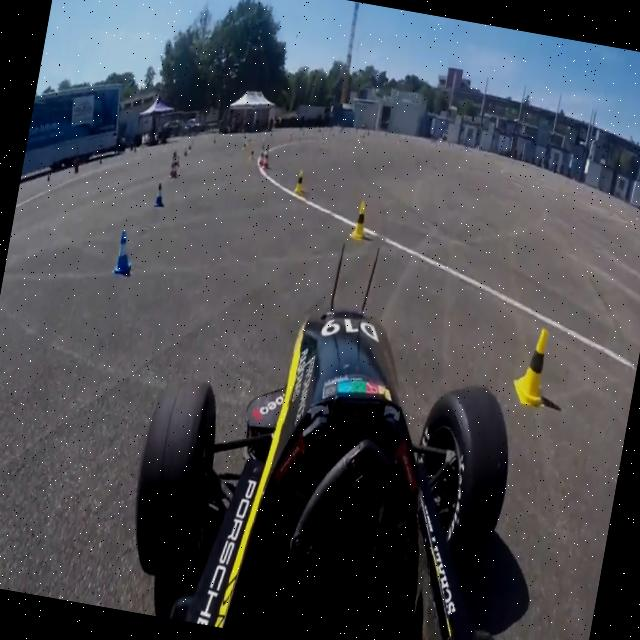blue_cone: (110, 224, 138, 276), (152, 178, 167, 208), (183, 145, 190, 157)
large_orange_cone: (260, 144, 272, 170), (168, 152, 178, 179), (256, 142, 266, 168), (172, 152, 182, 178)
yellow_cone: (508, 322, 556, 409), (346, 196, 372, 240), (290, 169, 308, 196), (248, 148, 255, 160)
